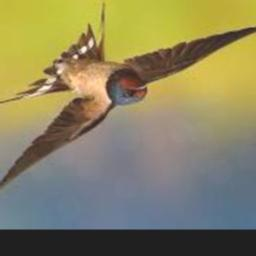Swallow: (0, 3, 256, 205)
